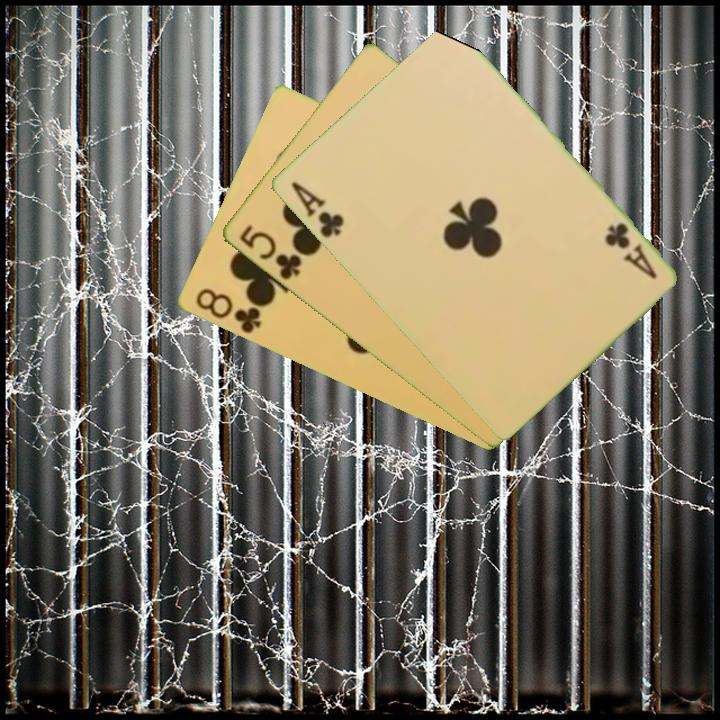5c: (235, 221, 304, 283)
8c: (191, 284, 264, 337)
Ac: (287, 178, 347, 241), (600, 219, 660, 282)
